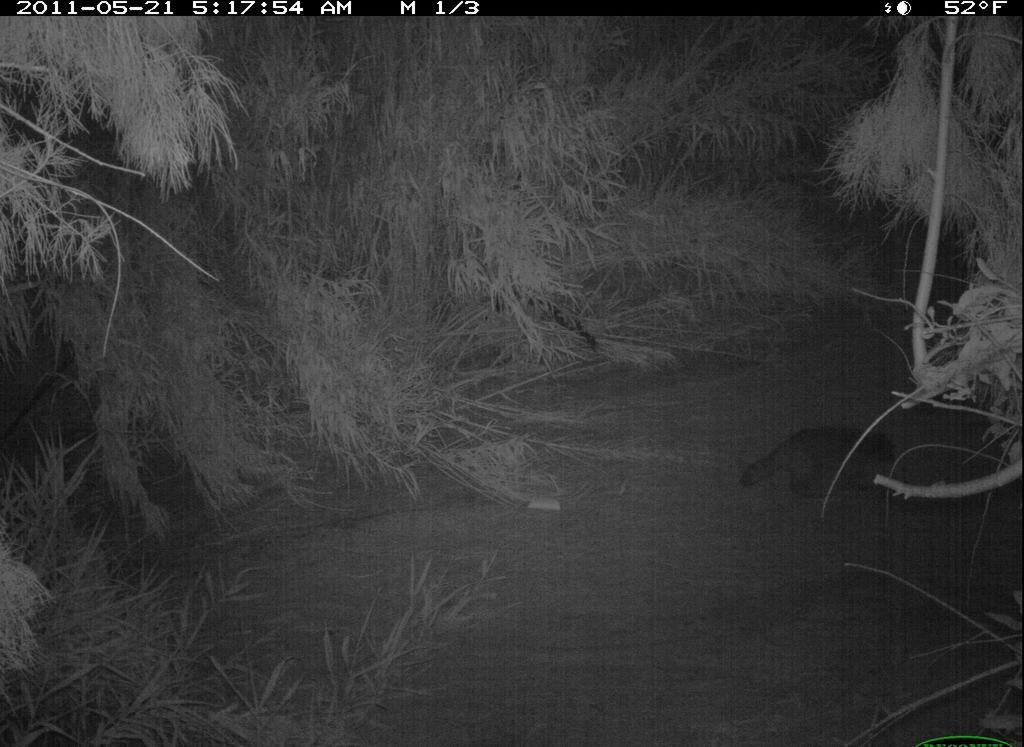raccoon: (726, 409, 909, 506)
